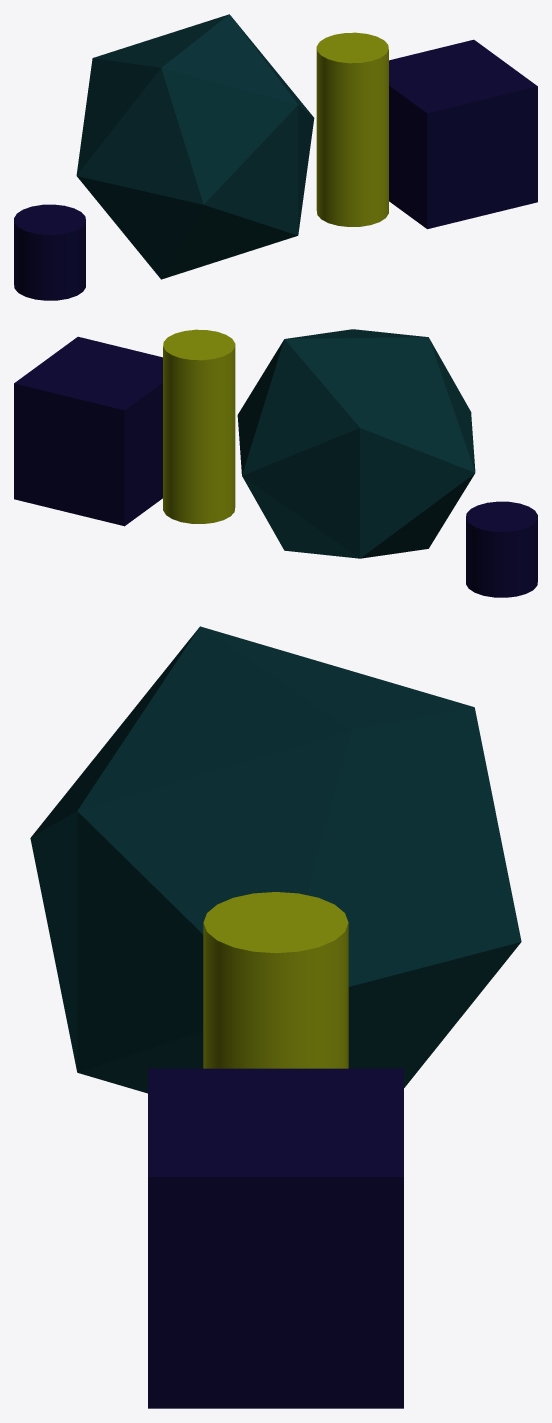
File: Shelf1.fbx
The picture shows the model from 3 angles, top to bottom: view 1: azimuth 30°, elevation 25°; view 2: azimuth 150°, elevation 25°; view 3: azimuth 270°, elevation 25°; orthographic projection. The views are drawn at different scales.
Parts seen in each view (by area): view 1: Shelf1; view 2: Shelf1; view 3: Shelf1.
Part boxes in pixels (<box>): Shelf1: <box>14,14,537,300</box>; Shelf1: <box>14,329,537,597</box>; Shelf1: <box>30,626,521,1408</box>.
Size of the model in its own units: 0.0286 by 0.012 by 0.0125.
